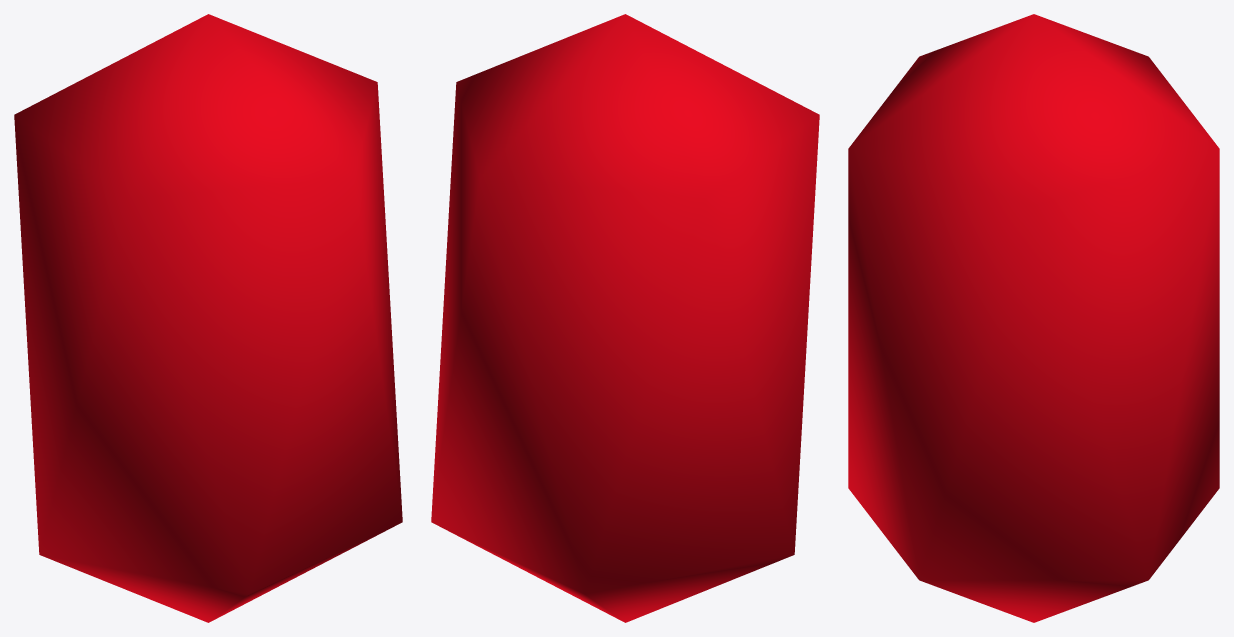
The model's file is Red Ruby.glb.
The picture shows the model from 3 angles, left to right: view 1: azimuth 30°, elevation 25°; view 2: azimuth 150°, elevation 25°; view 3: azimuth 270°, elevation 25°; orthographic projection.
Visible parts, largest first — view 1: Icosphere; view 2: Icosphere; view 3: Icosphere.
Part boxes in pixels (box(x1,y1,x2,y2)): Icosphere: box(14, 14, 402, 622); Icosphere: box(431, 14, 819, 622); Icosphere: box(848, 14, 1219, 622).
Size of the model in its own units: 1.79 by 3.08 by 1.7.
